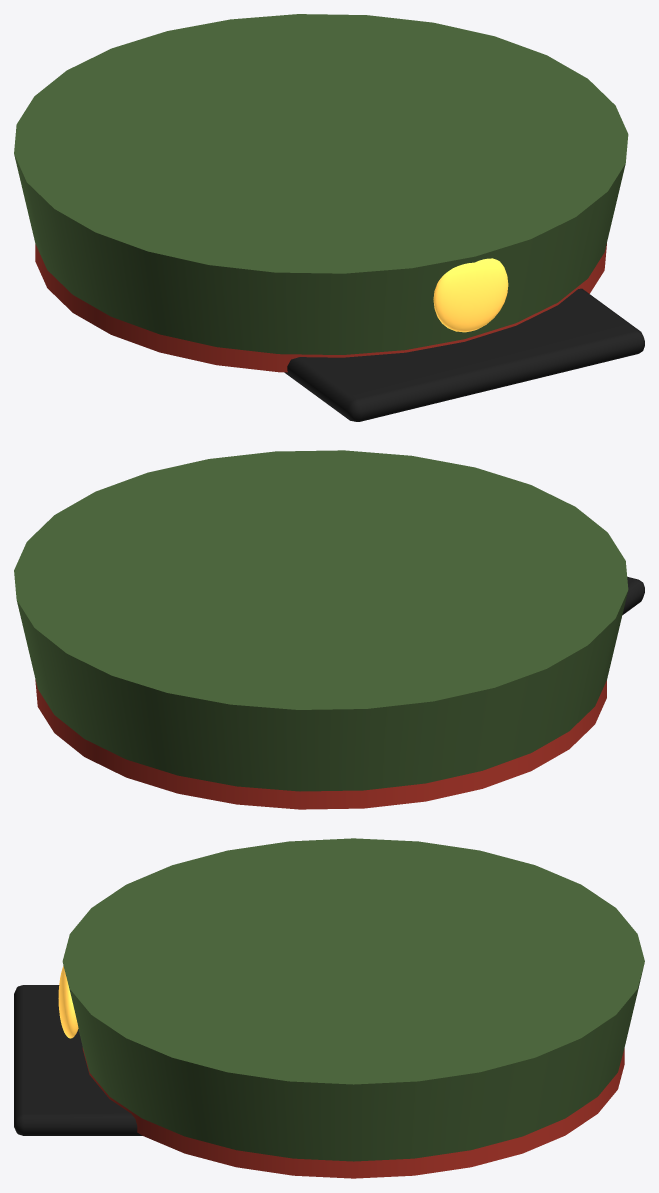
Rendered from hat_police.glb.
3 views of the same model, one above another, from view 1: azimuth 30°, elevation 25°; view 2: azimuth 150°, elevation 25°; view 3: azimuth 270°, elevation 25° (orthographic). The views are drawn at different scales.
Visible parts, largest first — view 1: Crown, Visor, Band, Badge; view 2: Crown, Band; view 3: Crown, Visor, Band, Badge.
Boxes of the visible parts, bbox=[...] form: Crown: bbox=[14, 14, 628, 354]; Visor: bbox=[284, 288, 644, 421]; Band: bbox=[35, 243, 606, 372]; Badge: bbox=[433, 258, 508, 332]; Crown: bbox=[14, 450, 628, 791]; Band: bbox=[35, 679, 606, 809]; Crown: bbox=[62, 838, 644, 1161]; Visor: bbox=[14, 985, 142, 1135]; Band: bbox=[82, 1047, 624, 1178]; Badge: bbox=[58, 966, 78, 1038].
Bounding box in the file's own units: 0.72 × 0.15 × 0.78.
